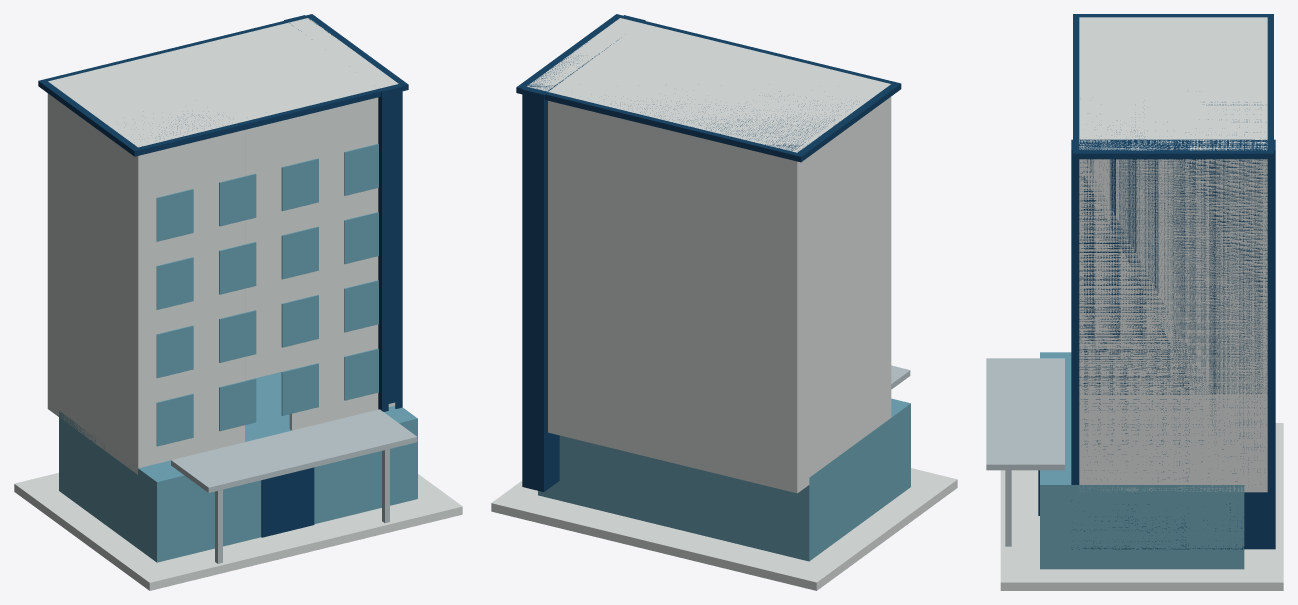
3 views of the same model, side by side, from view 1: azimuth 30°, elevation 25°; view 2: azimuth 150°, elevation 25°; view 3: azimuth 270°, elevation 25° (orthographic). The views are drawn at different scales.
Parts seen in each view (by area): view 1: TOWER_Side, TOWER_FrontPier, TOWER_Roof, TOWER_FrontPier.001, FOUNDATION, TOWER_EntryHeader, DROPOFF_Canopy, LOBBY_Side, LOBBY_FrontPier, LOBBY_FrontPier.001, ROOF, LOBBY_Entry (+25 smaller); view 2: TOWER_Back, TOWER_Side, TOWER_Roof, LOBBY_Back, FOUNDATION, LOBBY_Side, CORE_Back, ROOF, CORE_Side.001, CORE_Side; view 3: TOWER_Side.001, CORE_Side, TOWER_Roof, LOBBY_Side.001, FOUNDATION, DROPOFF_Canopy, ROOF, CORE_Roof, TOWER_Back, TOWER_FrontPier.001, LOBBY_Roof, CORE_Back (+2 smaller).
Part boxes in pixels (<box>): TOWER_Side: <box>48,93,142,473</box>; TOWER_FrontPier: <box>135,120,244,473</box>; TOWER_Roof: <box>48,18,398,146</box>; TOWER_FrontPier.001: <box>289,83,395,430</box>; FOUNDATION: <box>14,472,462,590</box>; TOWER_EntryHeader: <box>243,109,291,380</box>; DROPOFF_Canopy: <box>171,409,417,492</box>; LOBBY_Side: <box>59,411,160,560</box>; LOBBY_FrontPier: <box>154,474,261,562</box>; LOBBY_FrontPier.001: <box>314,417,417,523</box>; ROOF: <box>38,14,408,156</box>; LOBBY_Entry: <box>261,467,314,537</box>; TOWER_Back: <box>538,88,799,493</box>; TOWER_Side: <box>793,84,891,490</box>; TOWER_Roof: <box>527,18,890,151</box>; LOBBY_Back: <box>538,435,811,561</box>; FOUNDATION: <box>491,468,957,590</box>; LOBBY_Side: <box>805,402,910,560</box>; CORE_Back: <box>522,89,544,491</box>; ROOF: <box>516,14,901,162</box>; CORE_Side.001: <box>542,20,644,491</box>; CORE_Side: <box>522,15,624,486</box>; TOWER_Side.001: <box>1079,148,1267,491</box>; CORE_Side: <box>1071,149,1275,548</box>; TOWER_Roof: <box>1079,17,1267,150</box>; LOBBY_Side.001: <box>1040,485,1244,568</box>; FOUNDATION: <box>1000,423,1283,590</box>; DROPOFF_Canopy: <box>986,358,1064,470</box>; ROOF: <box>1073,14,1273,159</box>; CORE_Roof: <box>1071,139,1275,151</box>; TOWER_Back: <box>1263,48,1267,492</box>; TOWER_FrontPier.001: <box>1079,95,1083,487</box>; LOBBY_Roof: <box>1040,352,1243,489</box>; CORE_Back: <box>1274,139,1275,548</box>.
Bounding box in the file's own units: 12 × 15 × 9.45.
